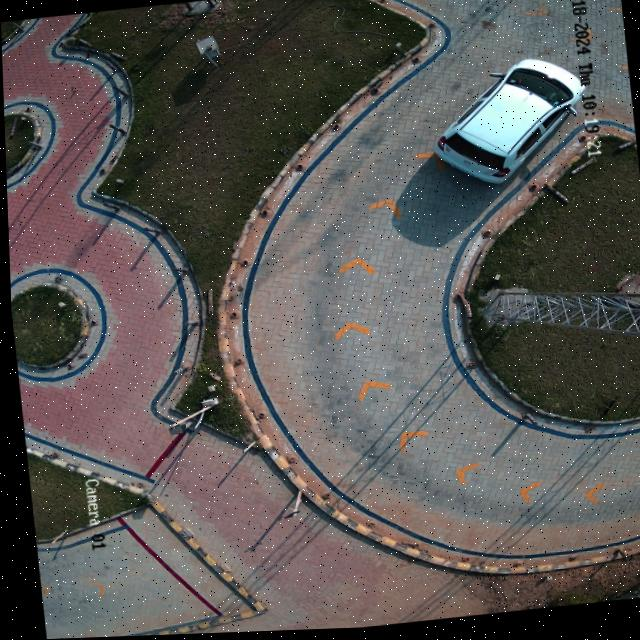car: (431, 60, 585, 188)
